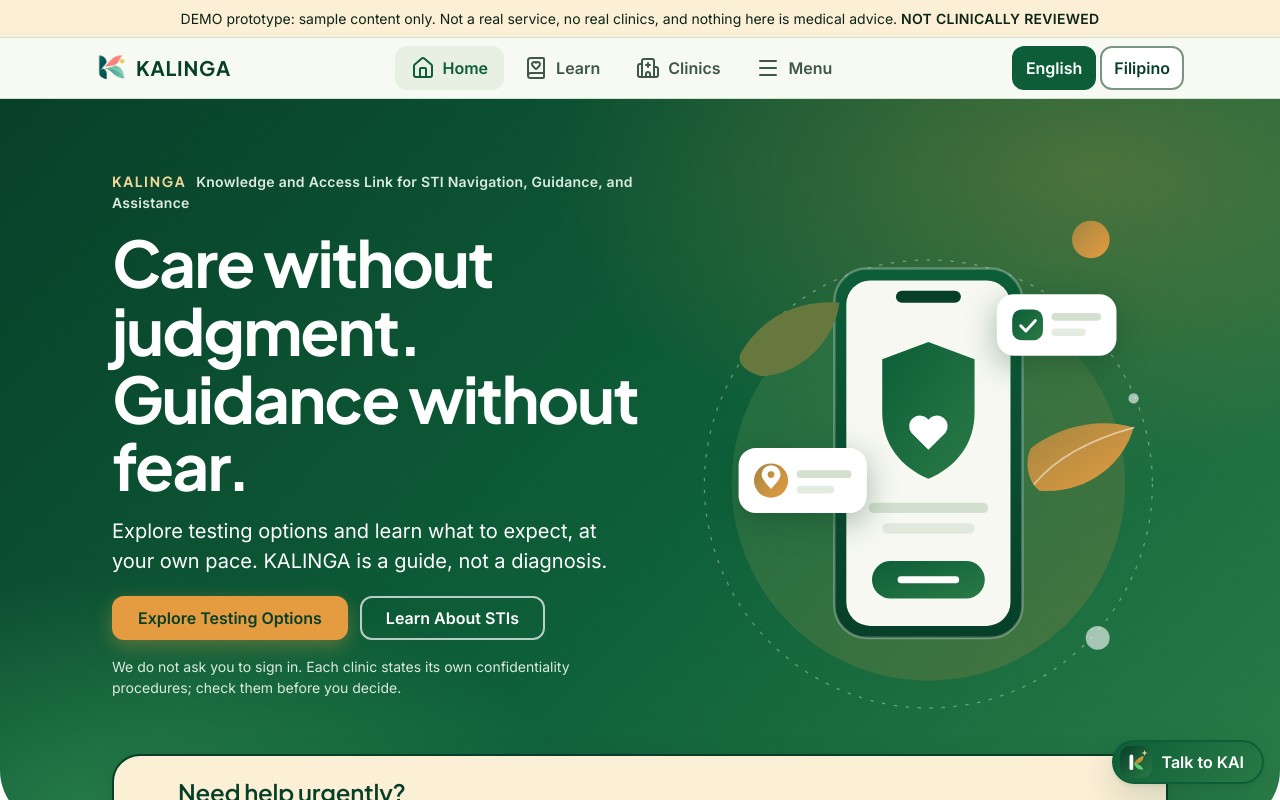
Test case: dialog behaviour › the close button and the floating button both close it and return focus
Click the button "Talk to KAI" at (1188, 762), box [1112,740,1264,784]
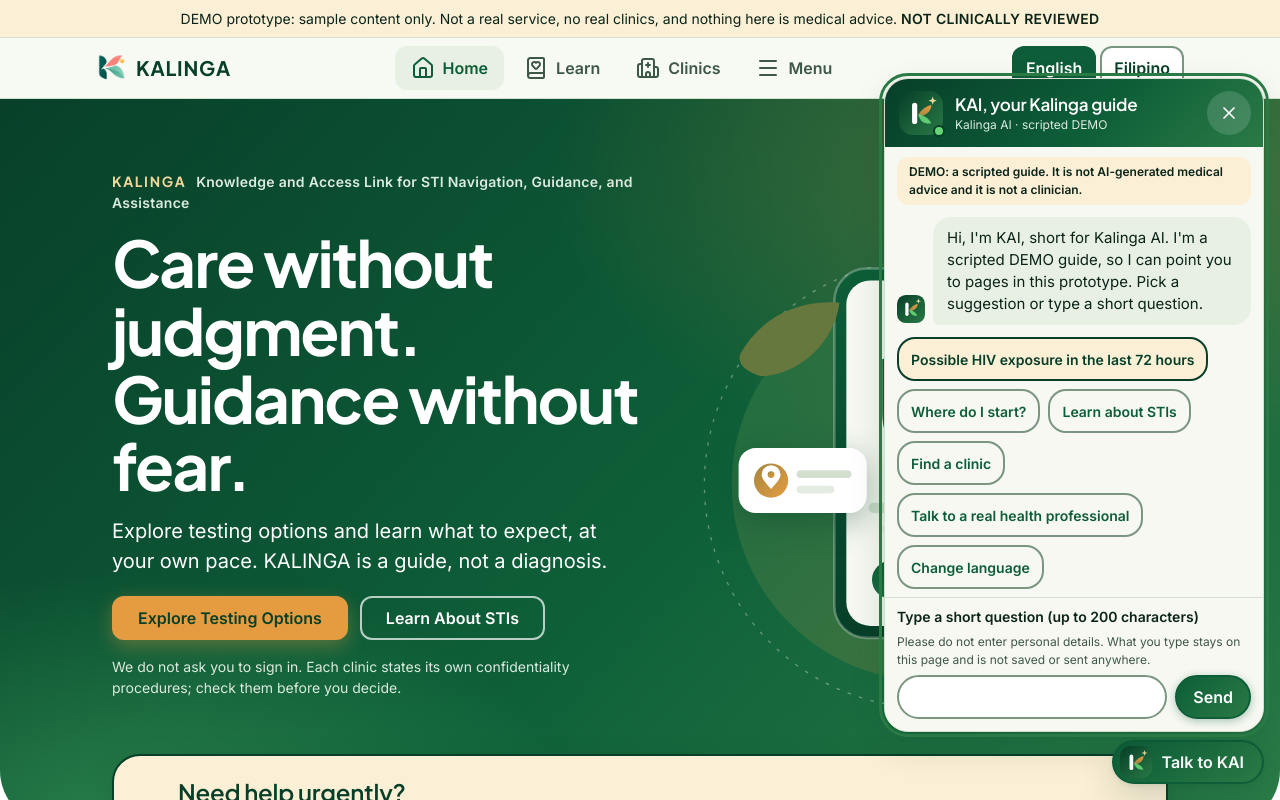
Click the button named "Close guide" at (1229, 113), box [1207,91,1251,135]
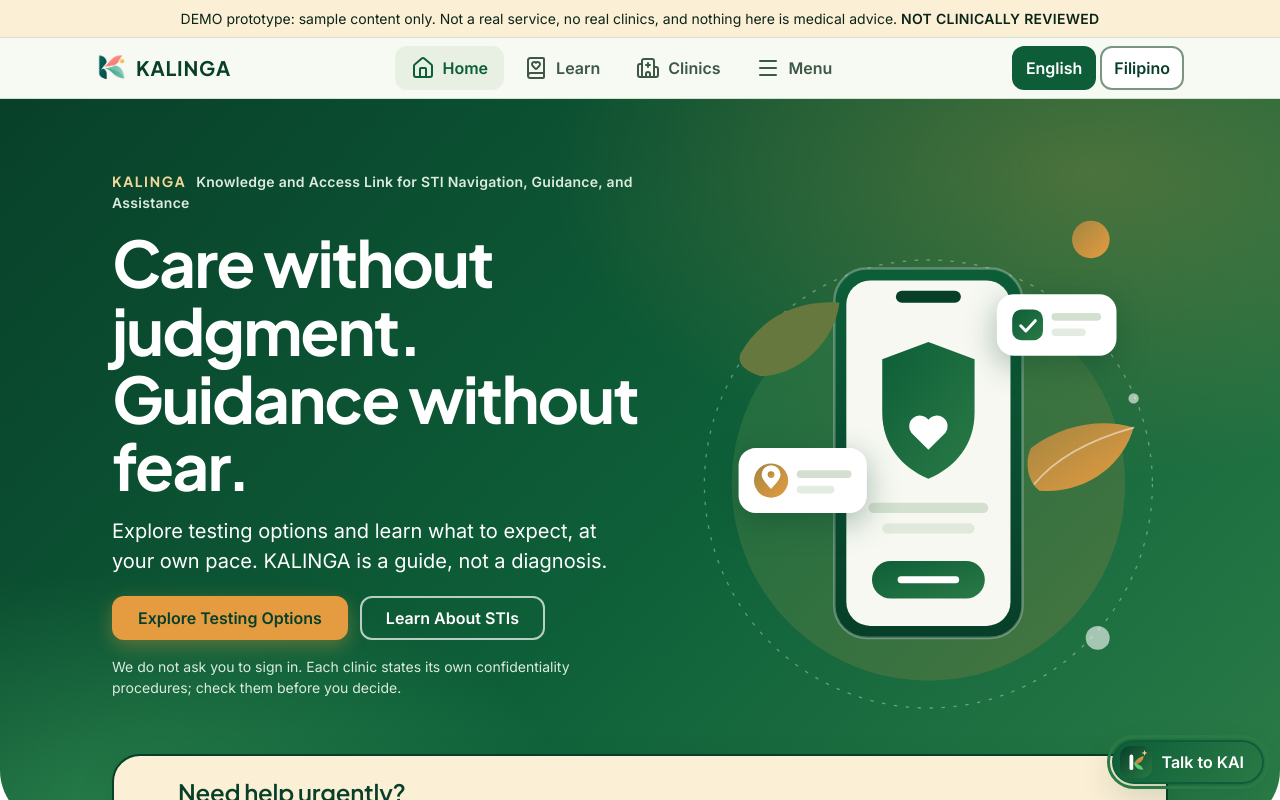
Expected: the dialog is gone
Click the button "Talk to KAI" at (1188, 762), box [1112,740,1264,784]
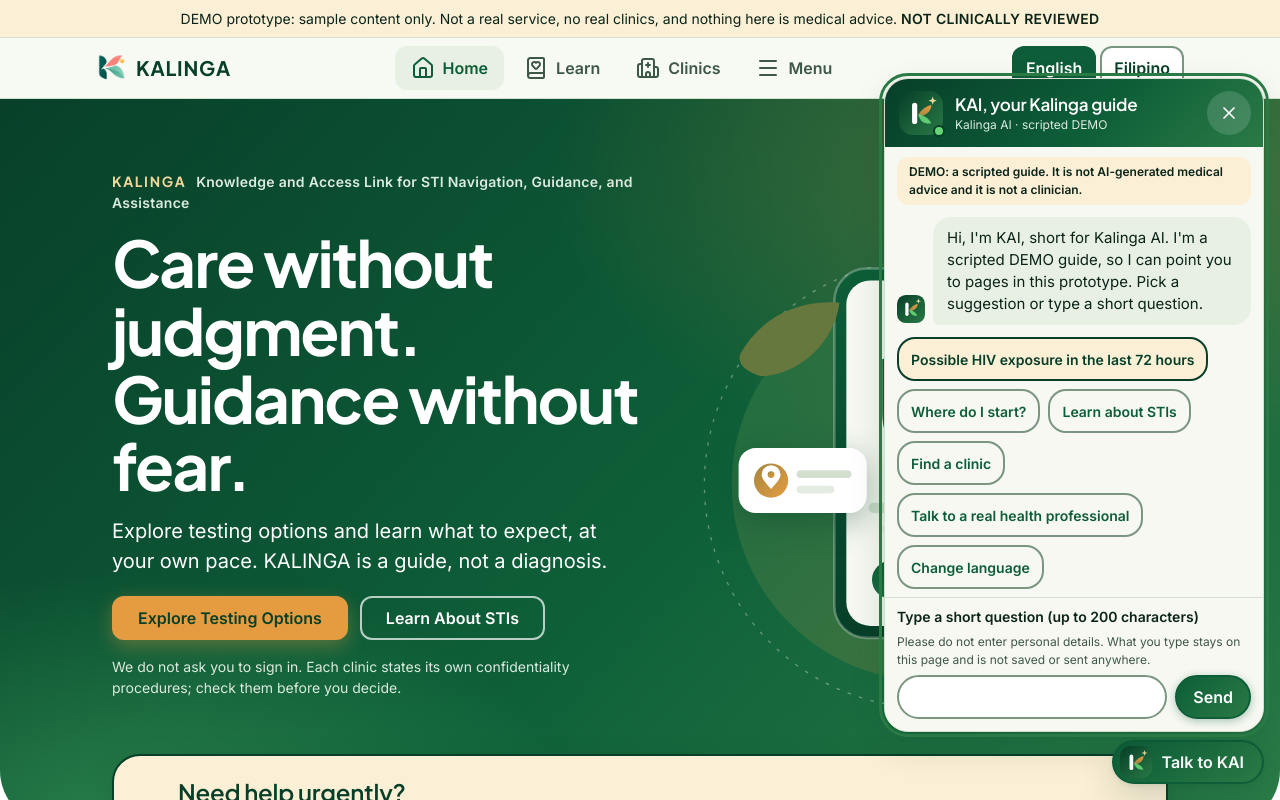
Click the button "Talk to KAI" at (1188, 762), box [1112,740,1264,784]
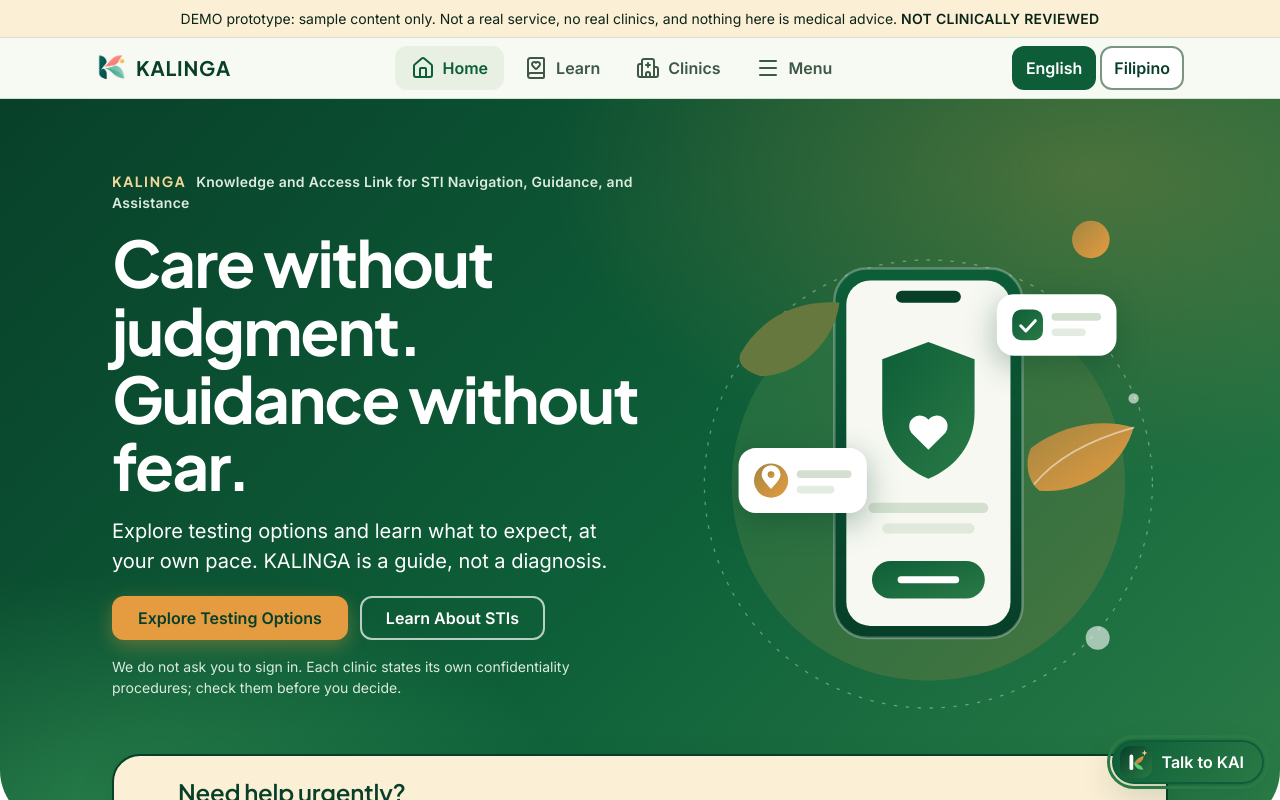
Expected: the dialog is gone
